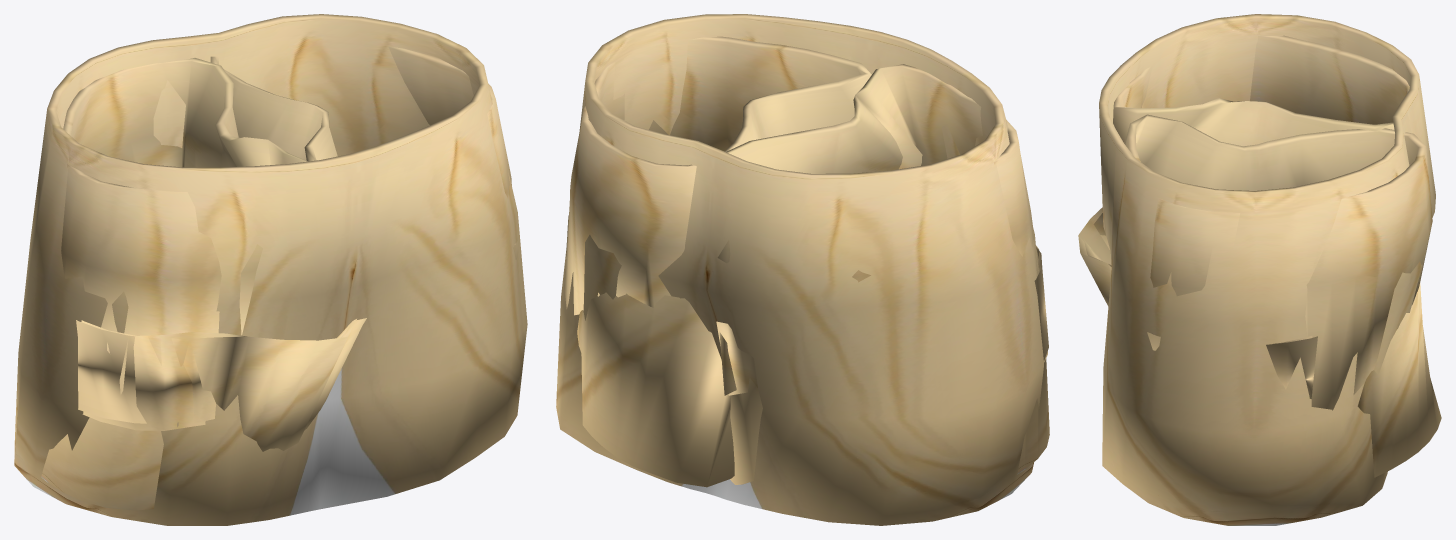
Rendered from 960c121c-5bd7-4595-b20f-27cbfbafb9dc.glb.
3 views of the same model, side by side, from view 1: azimuth 30°, elevation 25°; view 2: azimuth 150°, elevation 25°; view 3: azimuth 270°, elevation 25° (orthographic). The views are drawn at different scales.
Parts seen in each view (by area): view 1: garment_leg0; view 2: garment_leg0; view 3: garment_leg0.
Part boxes in pixels (x1,y1,x2,y2): garment_leg0: [14, 14, 527, 525]; garment_leg0: [556, 14, 1049, 525]; garment_leg0: [1078, 14, 1441, 525].
Bounding box in the file's own units: 0.4227 × 0.3242 × 0.3108.
1 material, 1 textured.
